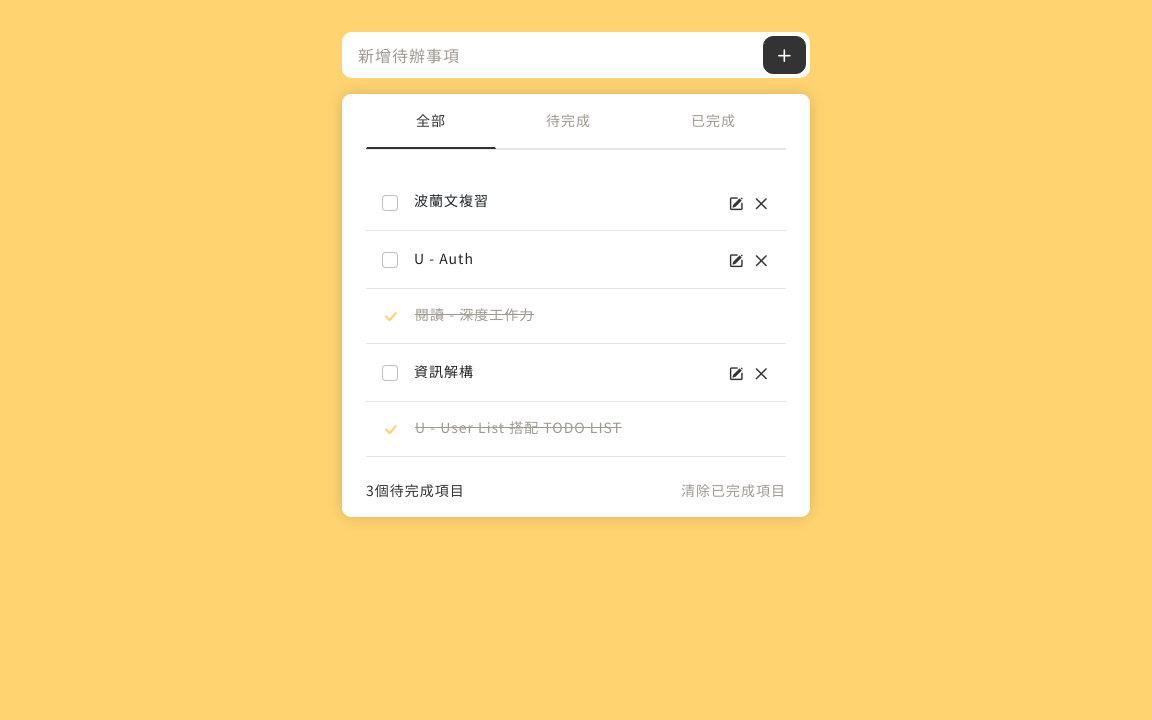
Scenario: Todo List › Interaction › 點擊取消按鈕關閉視窗
The width and height of the screenshot is (1152, 720).
Click the 1st button with test id "delete-icon". click: click(762, 204)
box: [753,193,770,214]
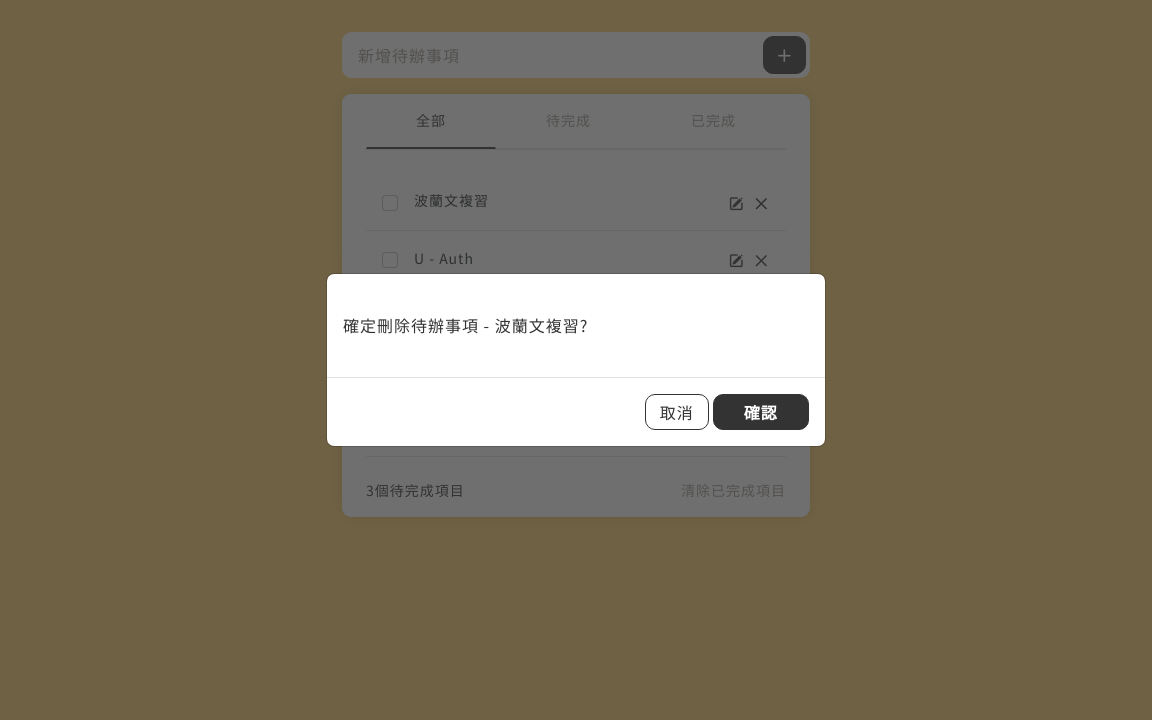
Click the button "取消". click: click(677, 412)
box: [645,394,709,430]
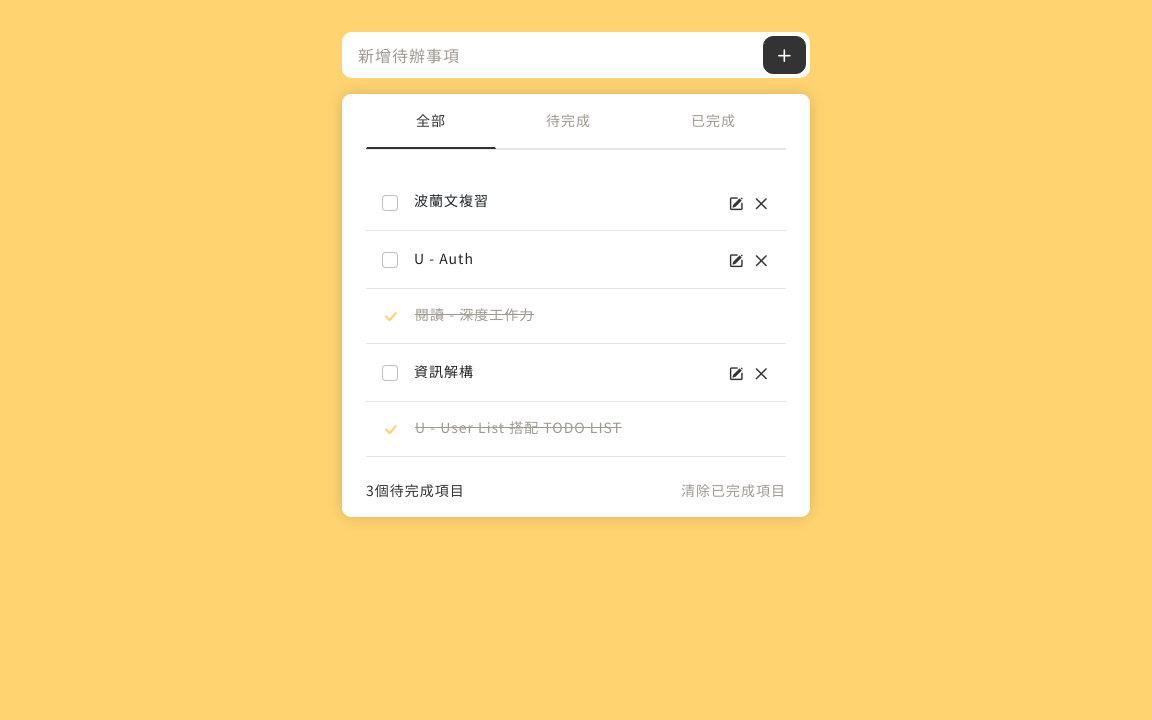
Result: the button with test id "modal" is gone
